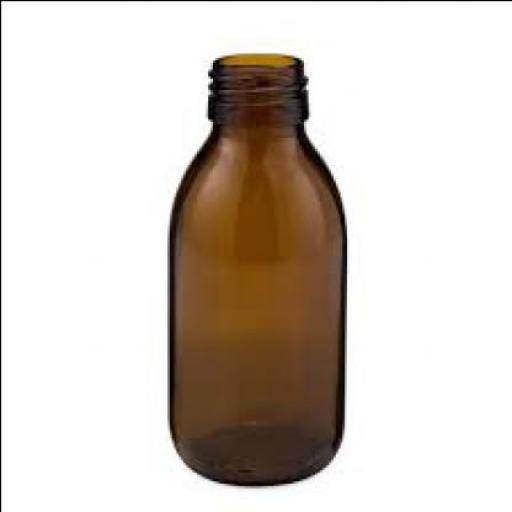glass: (166, 50, 342, 483)
